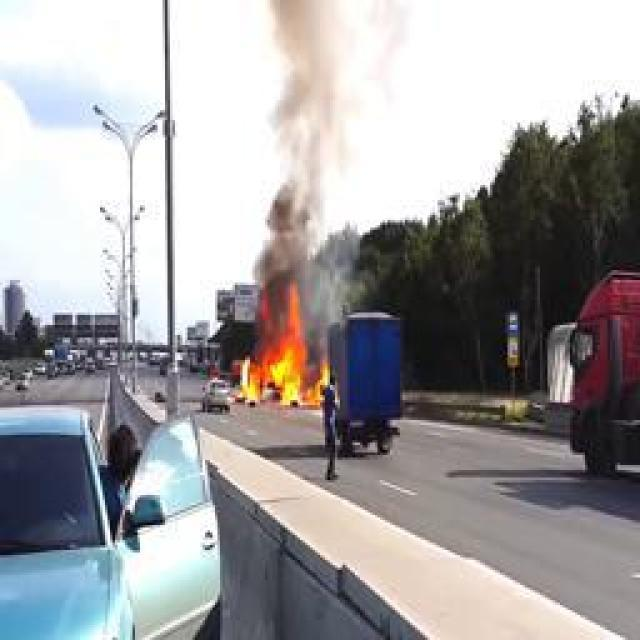Fire: (238, 282, 330, 408)
